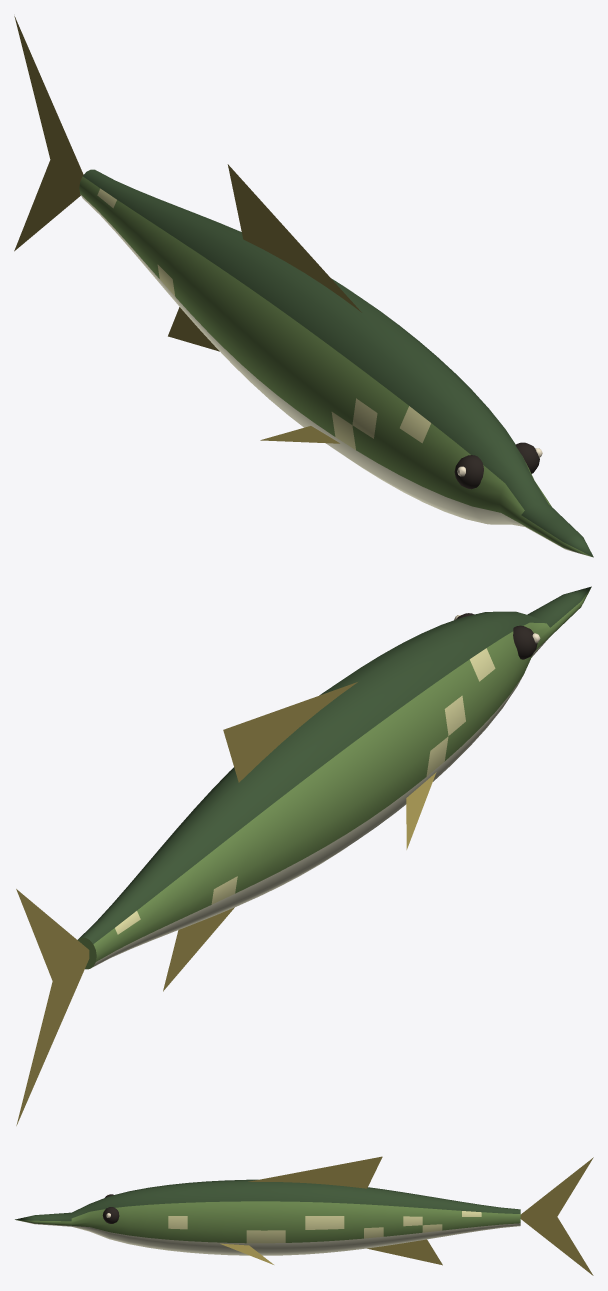
File: pike.fbx
The picture shows the model from 3 angles, top to bottom: view 1: azimuth 30°, elevation 25°; view 2: azimuth 150°, elevation 25°; view 3: azimuth 270°, elevation 25°; orthographic projection. The views are drawn at different scales.
Visible parts, largest first — view 1: Fish_pike_EXP; view 2: Fish_pike_EXP; view 3: Fish_pike_EXP.
Boxes of the visible parts, bbox=[...] form: Fish_pike_EXP: bbox=[14, 16, 593, 557]; Fish_pike_EXP: bbox=[16, 586, 591, 1125]; Fish_pike_EXP: bbox=[15, 1156, 593, 1275].
Bounding box in the file's own units: 0.1523 × 0.2325 × 1.01.
